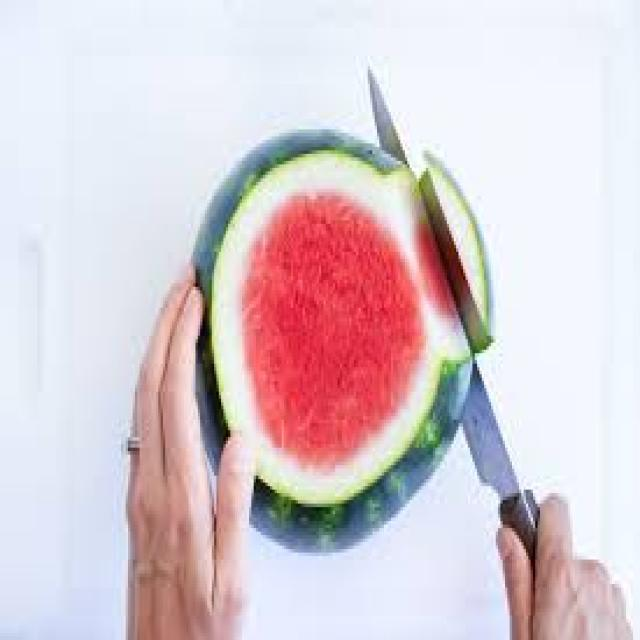watermelon: (159, 108, 488, 568)
